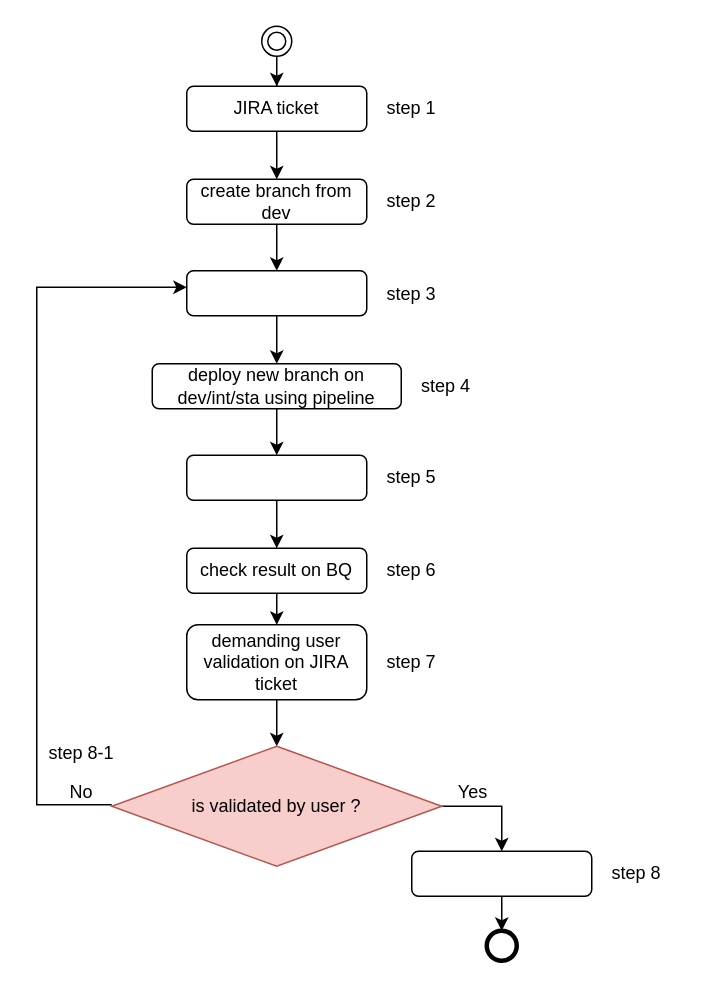
The diagram is 708 pixels wide and 987 high, and some of its shapes have lost their labels. The centre of each missing label's shape, as x and y in pixels:
"launch DAG to execute control" goes at point (276, 477).
"modication on new branch" goes at point (276, 292).
"MR from new branch to dev branch" goes at point (501, 873).
